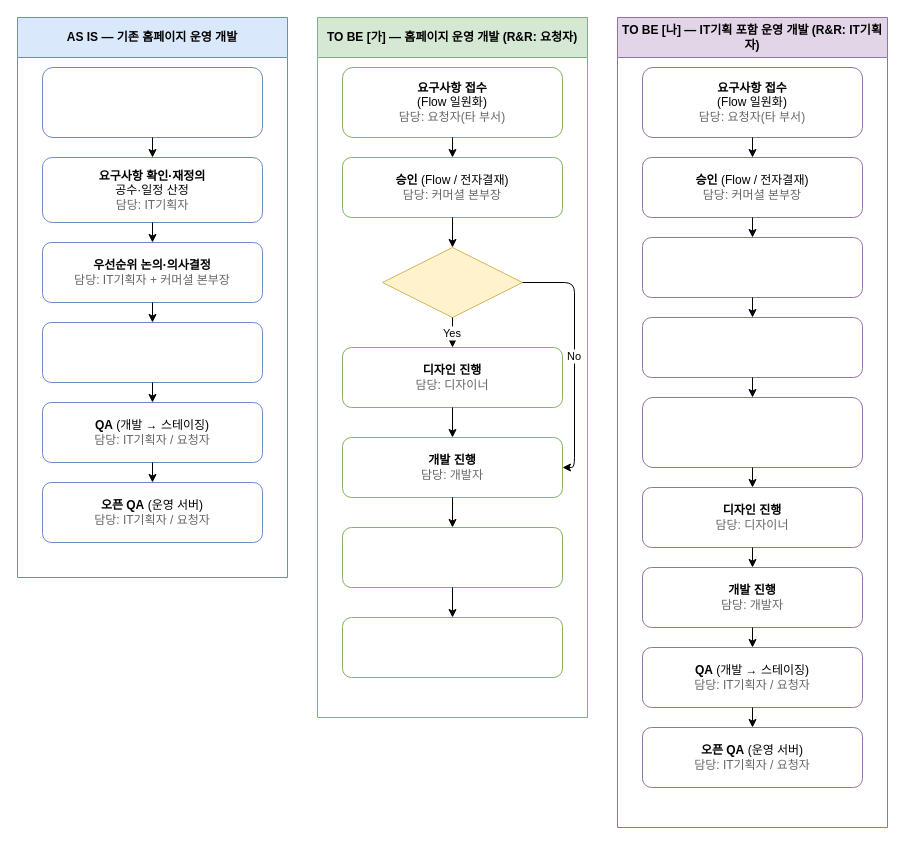
The diagram is 905 pixels wide and 845 high, and some of its shapes have lost their labels. Here are the shapes that lost their labels. From the top down, the centre of each, then its label:
At (x=152, y=102): "요구사항 접수 (전화·메일·레드마인·Flow) 담당: 요청자(타 부서)".
At (x=452, y=282): "디자인 필요?".
At (x=752, y=267): "개발 요청 담당: 요청자(타 부서)".
At (x=152, y=352): "개발 진행 (필요 시 디자인) 담당: 개발자".
At (x=752, y=347): "IT기획자에게 기획 요청 담당: 개발자".
At (x=752, y=432): "요구사항 재정의·기획 (정책·화면설계) 담당: IT기획자".
At (x=452, y=557): "QA (개발 → 스테이징) 담당: 요청자(타 부서)".
At (x=452, y=647): "오픈 QA (운영 서버) 담당: 요청자(타 부서)".
